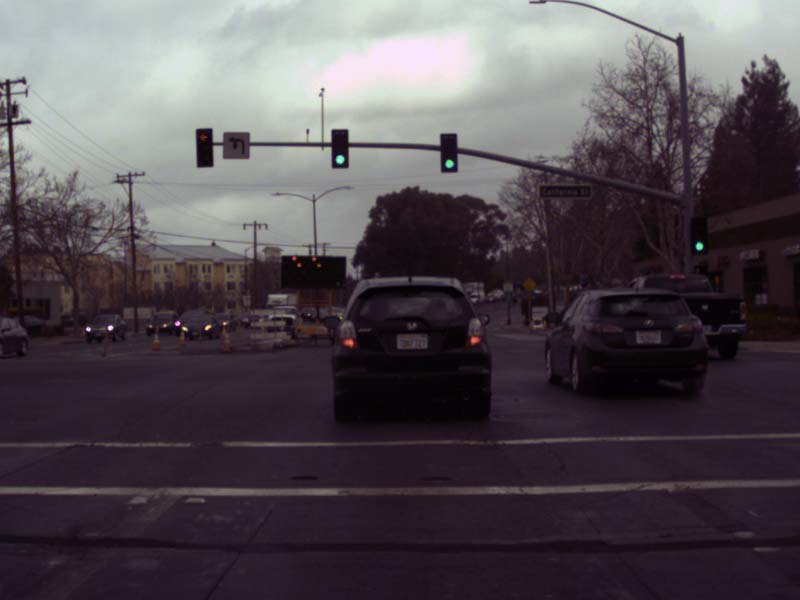Green: (440, 133, 456, 172), (332, 130, 347, 167), (691, 217, 706, 254)
Red: (196, 128, 212, 165)
